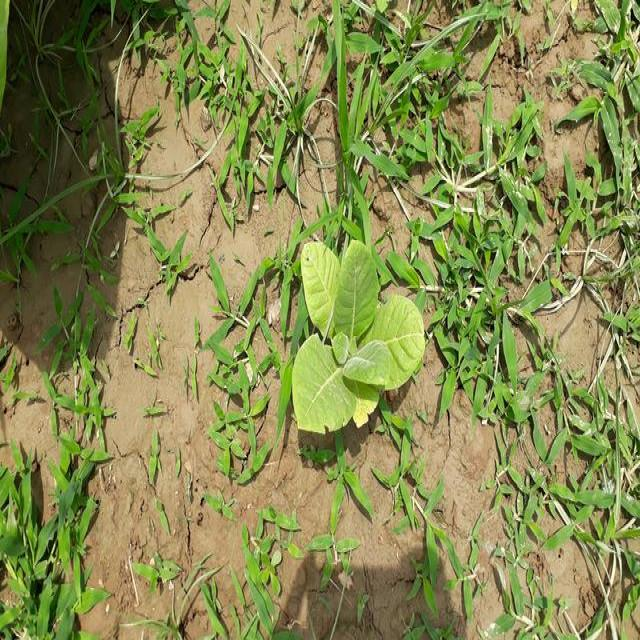crop: (289, 226, 428, 444)
